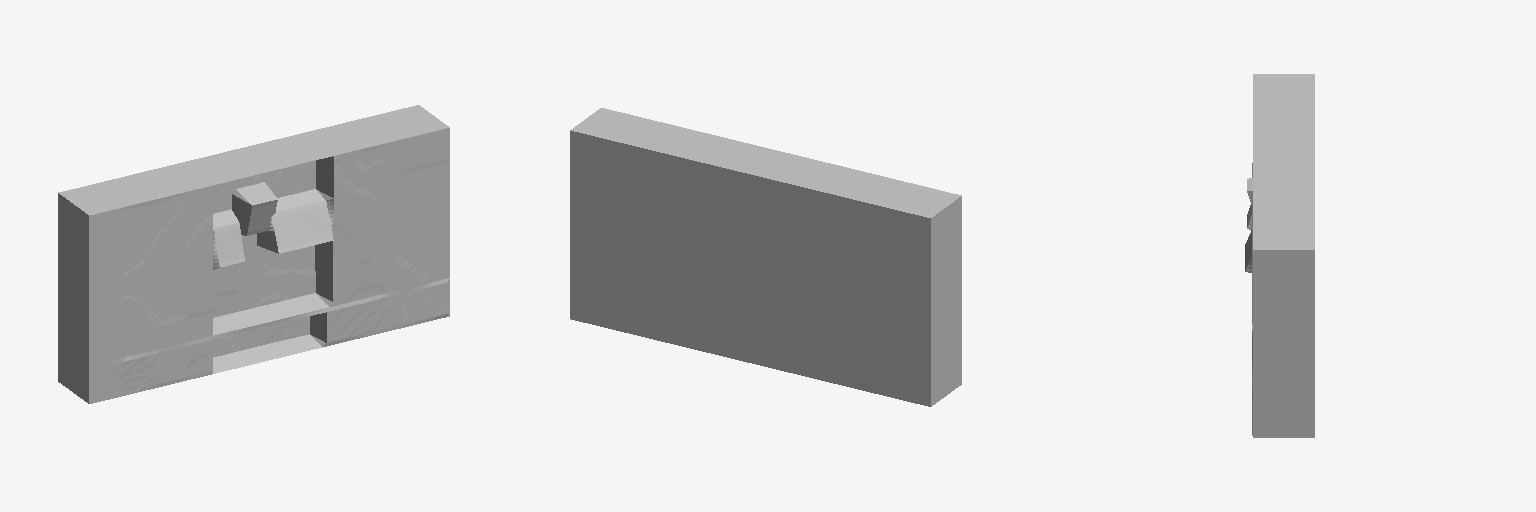
The model's file is rectangular_prism_bumps_5_1.obj.
The picture shows the model from 3 angles: view 1: azimuth 30°, elevation 25°; view 2: azimuth 150°, elevation 25°; view 3: azimuth 270°, elevation 25°; orthographic projection.
Size of the model in its own units: 10 by 5 by 1.69.